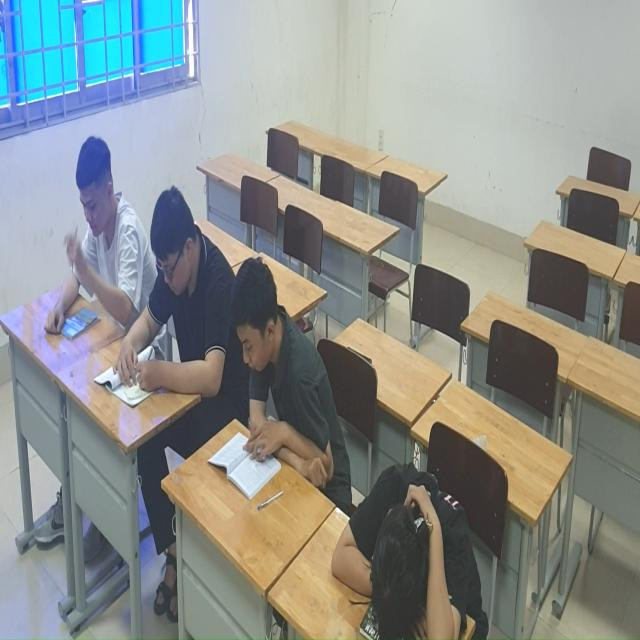read: (221, 244, 342, 504), (113, 184, 225, 431)
sleep: (332, 444, 500, 640)
